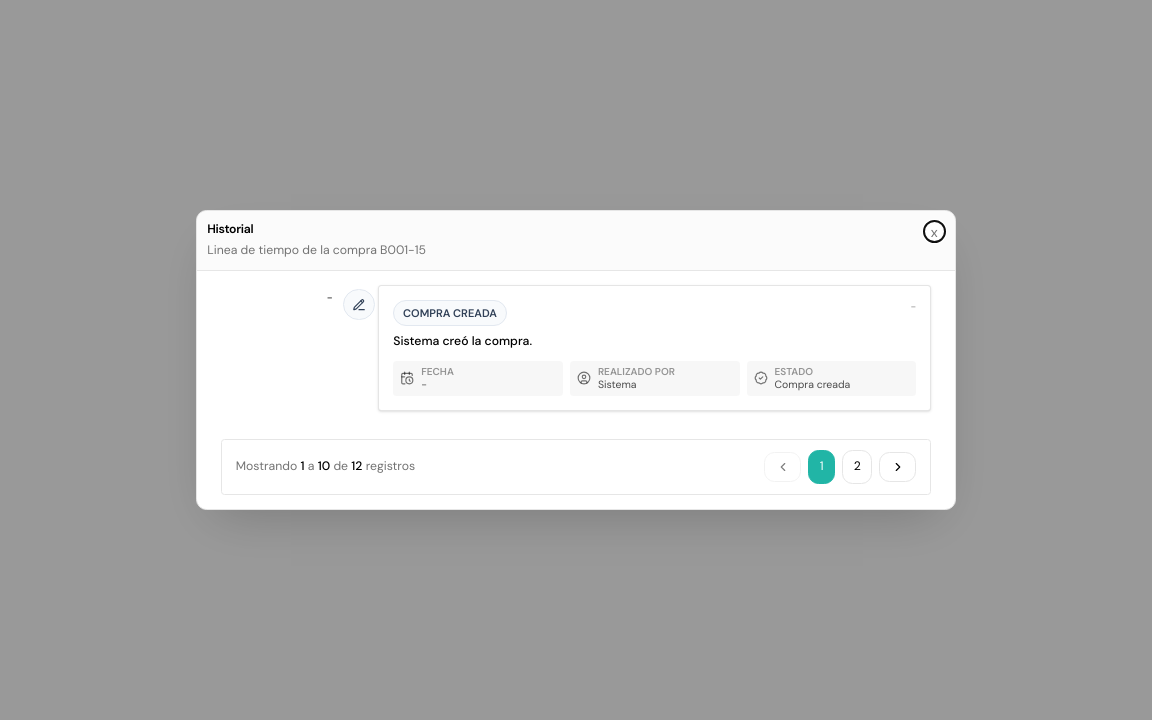
Test case: PurchaseHistoryTimelineModal › loads the requested page when timeline pagination changes
Expected: the text "Sistema creó la compra." is shown, [393,333,532,350]
Click the button "2" at (857, 467), box [842,450,872,484]
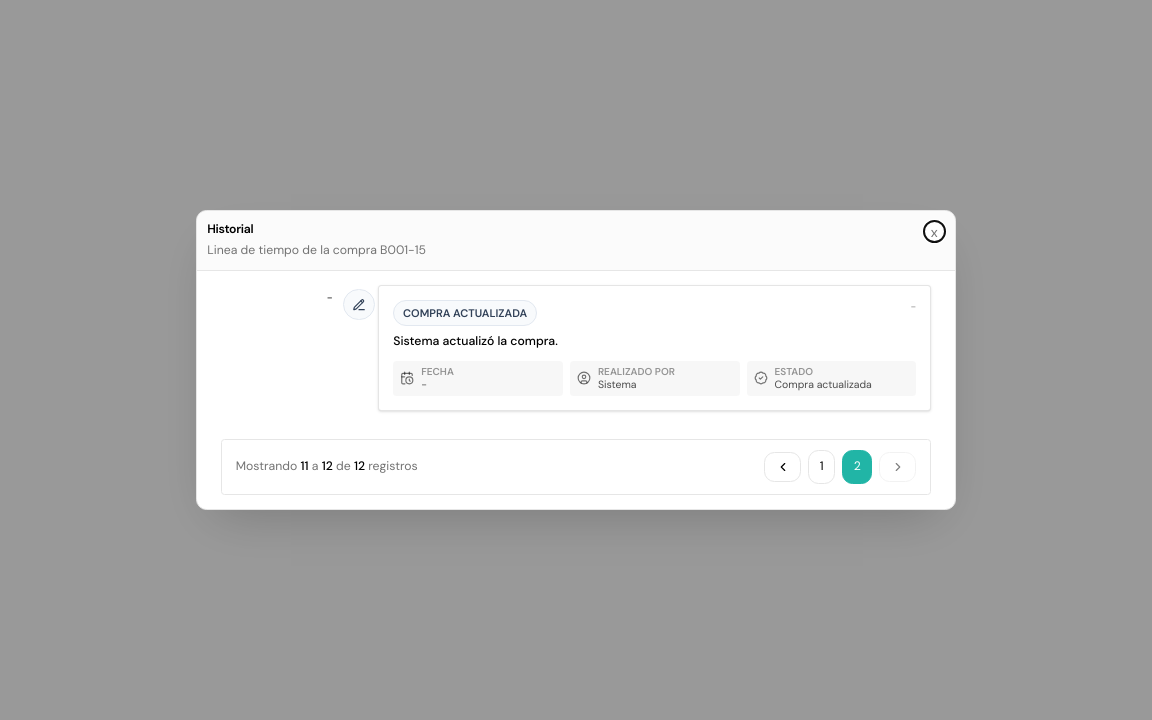
Now the text "Sistema actualizó la compra." is shown, box [393,333,558,350]
